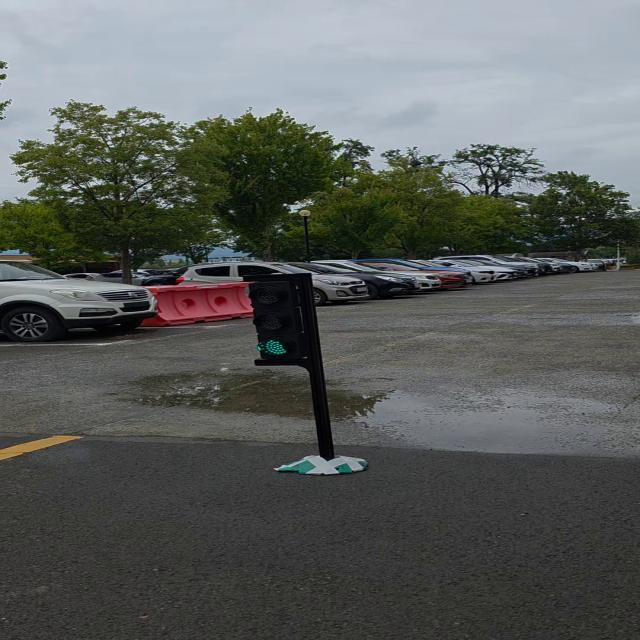green: (249, 276, 320, 364)
